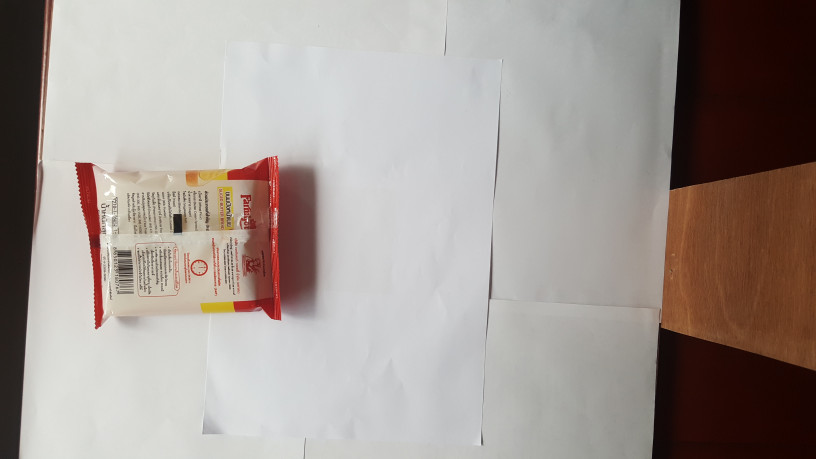farmhouse-bread-butter: (69, 154, 291, 339)
